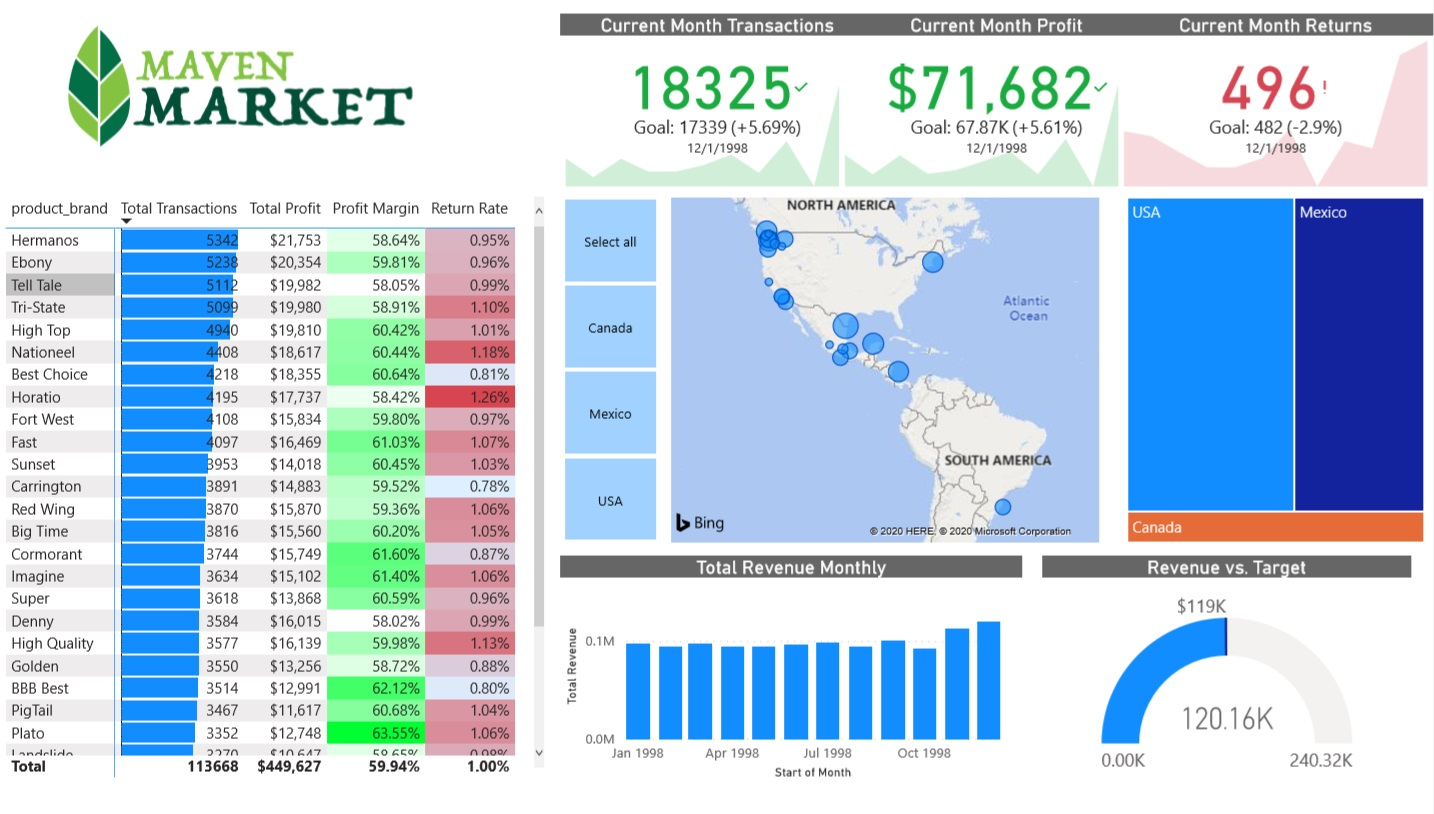

This screenshot's page, from the dashboard's own definition file:
{"tool":"powerbi","page":{"name":"Topline Performance","canvas":[1280,720],"ordinal":0},"visuals":[{"type":"pivotTable","fields":{"Rows":["Products.product_brand"],"Values":["Transaction_Data.Total Transactions","Transaction_Data.Total Profit","Transaction_Data.Profit Margin","Return_Data.Return Rate"]},"box":[0,73.9,491.2,624.4],"z":0},{"type":"kpi","title":"Current Month Transactions","fields":{"TrendLine":["Calendar.Start of Month"],"Goal":["Transaction_Data.Last Month Transactions"],"Indicator":["Transaction_Data.Total Transactions"]},"box":[499.9,10.7,281.1,158.5],"z":1000},{"type":"kpi","title":"Current Month Profit","fields":{"TrendLine":["Calendar.Start of Month"],"Indicator":["Transaction_Data.Total Profit"],"Goal":["Transaction_Data.Last Month Profit"]},"box":[749.4,10.7,281.1,158.5],"z":2000},{"type":"kpi","title":"Current Month Returns","fields":{"TrendLine":["Calendar.Start of Month"],"Indicator":["Return_Data.Total Returns"],"Goal":["Return_Data.Last Month Returns"]},"box":[998.9,10.7,281.1,158.5],"z":3000},{"type":"map","fields":{"Category":["Stores.store_city"],"Size":["Transaction_Data.Total Transactions"]},"box":[594.3,169.1,392.5,318.3],"z":4000},{"type":"slicer","fields":{"Values":["Stores.store_country"]},"box":[478.7,169.1,131.1,318.3],"z":5000},{"type":"treemap","fields":{"Group":["Stores.store_country","Stores.store_state","Stores.store_city"],"Values":["Transaction_Data.Total Transactions"]},"box":[1001.4,169.1,275.1,318.3],"z":6000},{"type":"columnChart","title":"Total Revenue Monthly","fields":{"Category":["Calendar.Start of Month"],"Y":["Transaction_Data.Total Revenue"]},"box":[500.3,494.2,413.2,203.6],"z":7000},{"type":"gauge","title":"Revenue vs. Target","fields":{"Y":["Transaction_Data.Total Revenue"],"TargetValue":["Transaction_Data.Revenue Target"]},"box":[931,494,330,204],"z":8000}]}

Visuals, with their boxes in screenshot pixels (x1, y1, x2, y2), scaled from the page's 1280x720 canvas onto the 1434x814 screenshot:
pivotTable - Products.product_brand x Transaction_Data.Total Transactions: 0, 84, 550, 789
"Current Month Transactions" kpi: 560, 12, 875, 191
"Current Month Profit" kpi: 840, 12, 1154, 191
"Current Month Returns" kpi: 1119, 12, 1433, 191
map - Stores.store_city x Transaction_Data.Total Transactions: 666, 191, 1106, 551
slicer - Stores.store_country: 536, 191, 683, 551
treemap - Stores.store_country x Stores.store_state: 1122, 191, 1430, 551
"Total Revenue Monthly" columnChart: 560, 559, 1023, 789
"Revenue vs. Target" gauge: 1043, 558, 1413, 789
